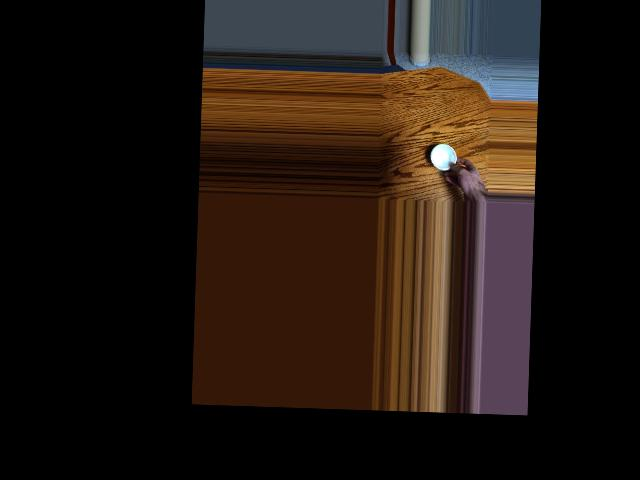cotage: (427, 143, 459, 170)
